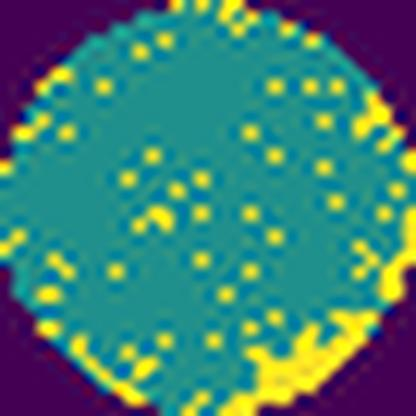Edge-Loc: (203, 116, 415, 416)
